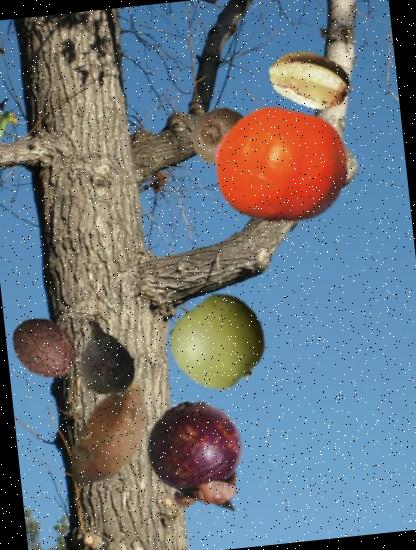Apple: (162, 285, 272, 394)
Beetroot: (57, 313, 152, 408)
Carambula: (264, 34, 355, 126)
Clementine: (208, 94, 354, 239)
Cocos: (4, 309, 82, 387)
Kiwi: (188, 102, 256, 171)
Mangostan: (132, 395, 263, 526)
Potato: (44, 369, 180, 504)
